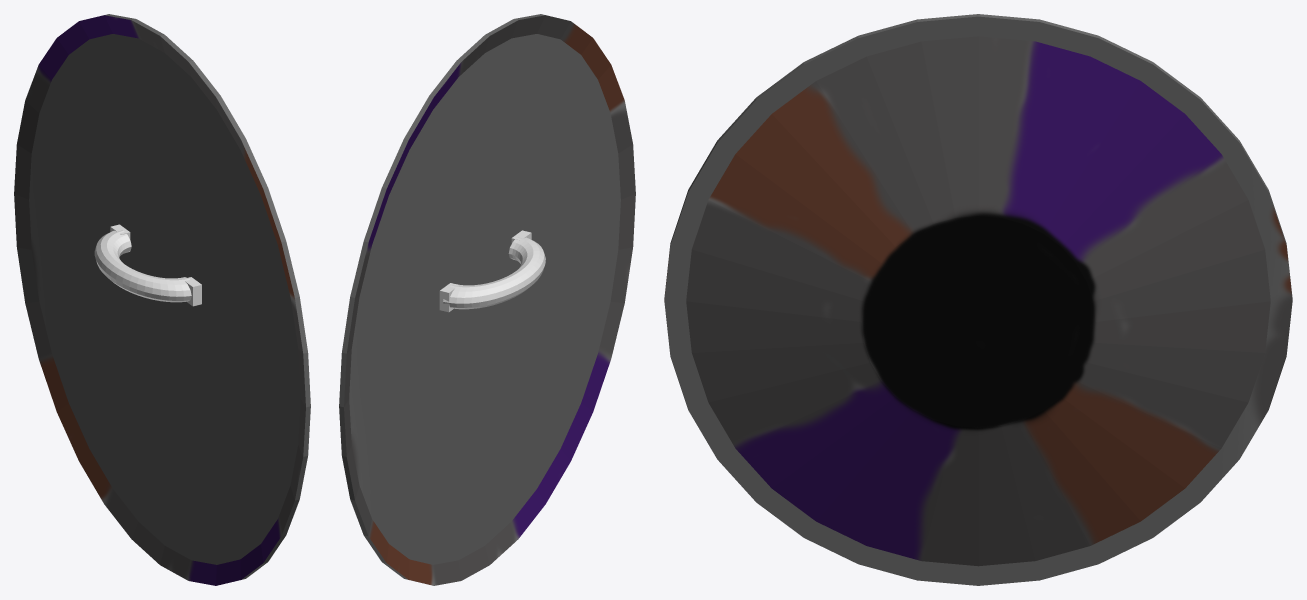
The model's file is kalkan.fbx.
3 views of the same model, side by side, from view 1: azimuth 30°, elevation 25°; view 2: azimuth 150°, elevation 25°; view 3: azimuth 270°, elevation 25° (orthographic). The views are drawn at different scales.
Parts seen in each view (by area): view 1: Cylinder, Torus; view 2: Cylinder, Torus; view 3: Cylinder.
Boxes of the visible parts, box(x1,y1,x2,y2) form: Cylinder: box(14, 14, 310, 585); Torus: box(94, 230, 191, 302); Cylinder: box(339, 14, 635, 585); Torus: box(443, 237, 545, 309); Cylinder: box(664, 14, 1292, 585).
Bounding box in the file's own units: 35.39 × 200 × 200.
